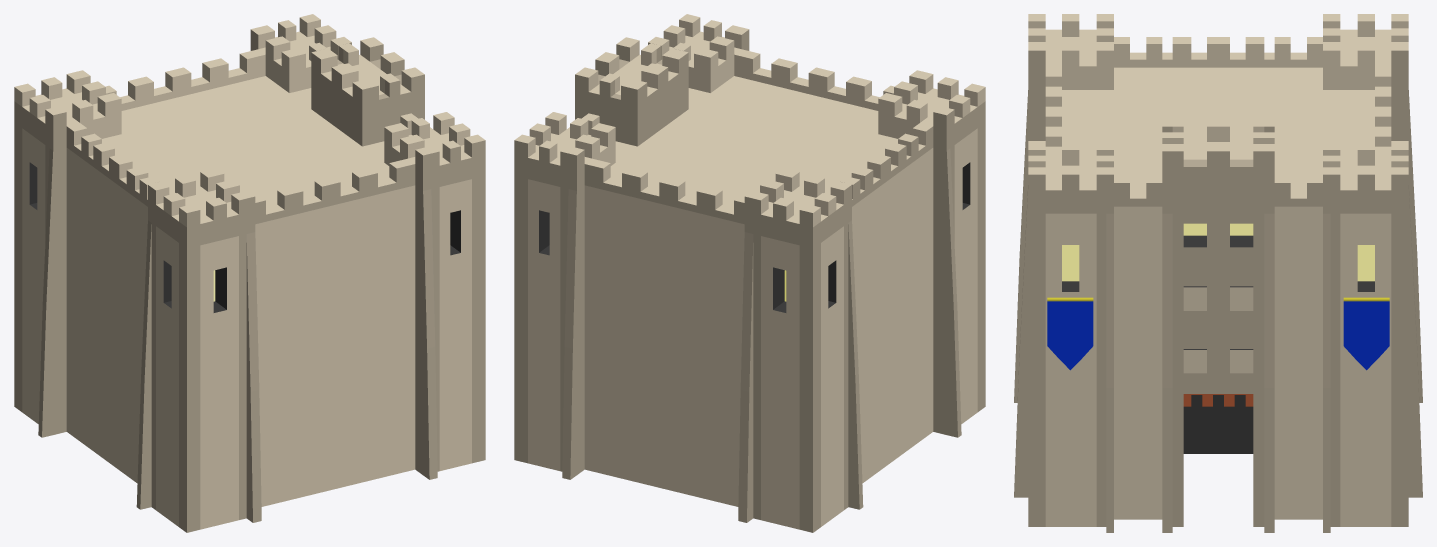
The model's file is GuardHouse_0_1.fbx.
The picture shows the model from 3 angles, left to right: view 1: azimuth 30°, elevation 25°; view 2: azimuth 150°, elevation 25°; view 3: azimuth 270°, elevation 25°; orthographic projection. The views are drawn at different scales.
Parts seen in each view (by area): view 1: GuardTower; view 2: GuardTower; view 3: GuardTower, Banner_L, Banner_R, Gates.
Boxes of the visible parts, box(x1,y1,x2,y2) form: GuardTower: box(14, 14, 485, 532); GuardTower: box(514, 14, 985, 532); GuardTower: box(1014, 14, 1422, 532); Banner_L: box(1047, 297, 1093, 370); Banner_R: box(1343, 297, 1389, 370); Gates: box(1183, 394, 1253, 406).
Size of the model in its own units: 473 by 480 by 473.
